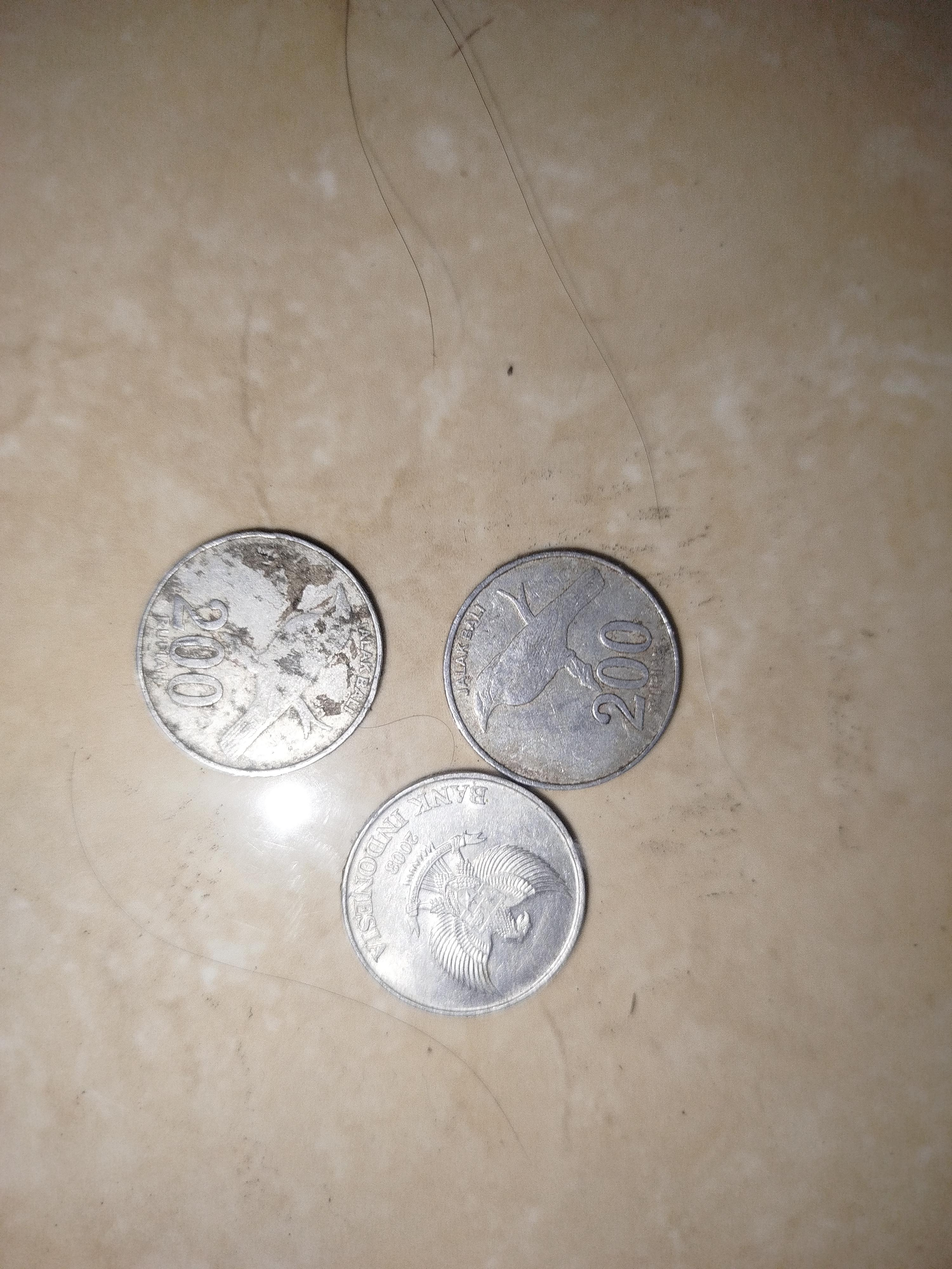coin_200_e2003: (134, 532, 384, 779), (443, 547, 683, 793)
